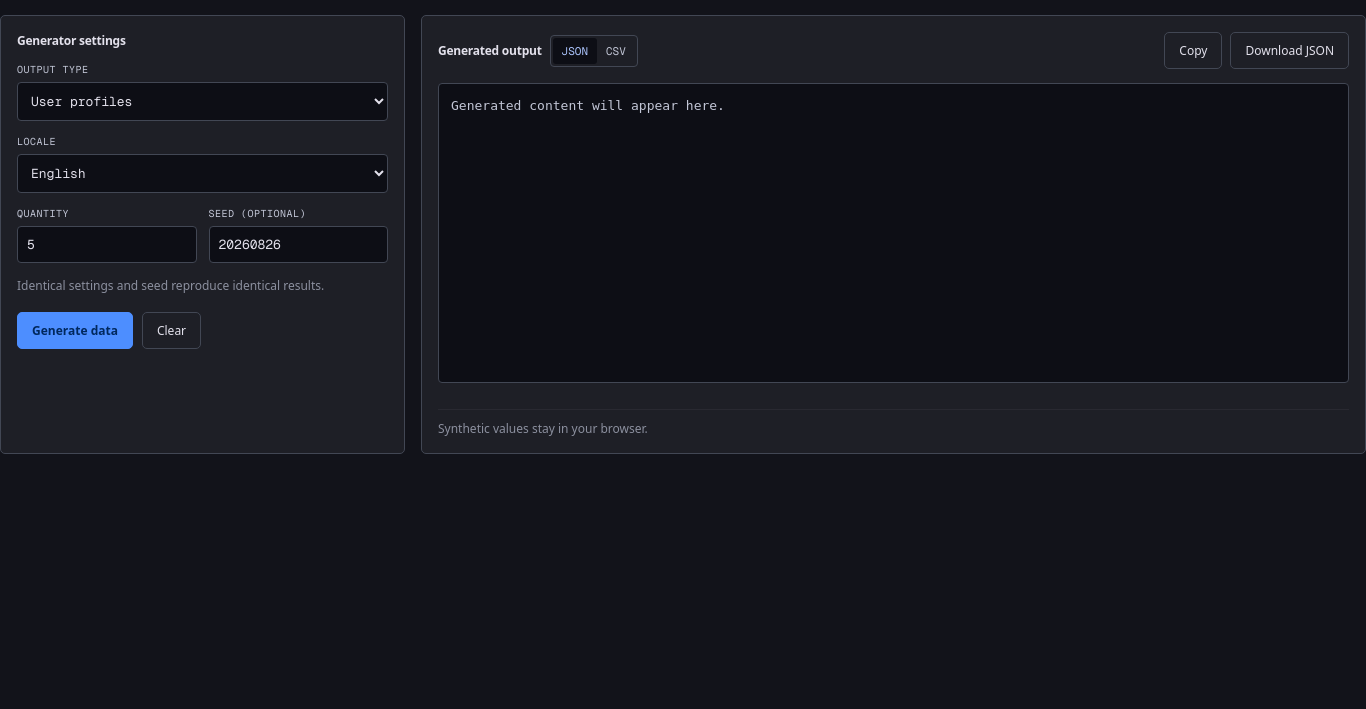
Mock Data Generator - Level 3 advanced/risk-driven › reports unavailable clipboard access without losing generated output (browser capability risk)
Click the button "Generate data". click: (75, 330)
box: [17, 312, 133, 349]
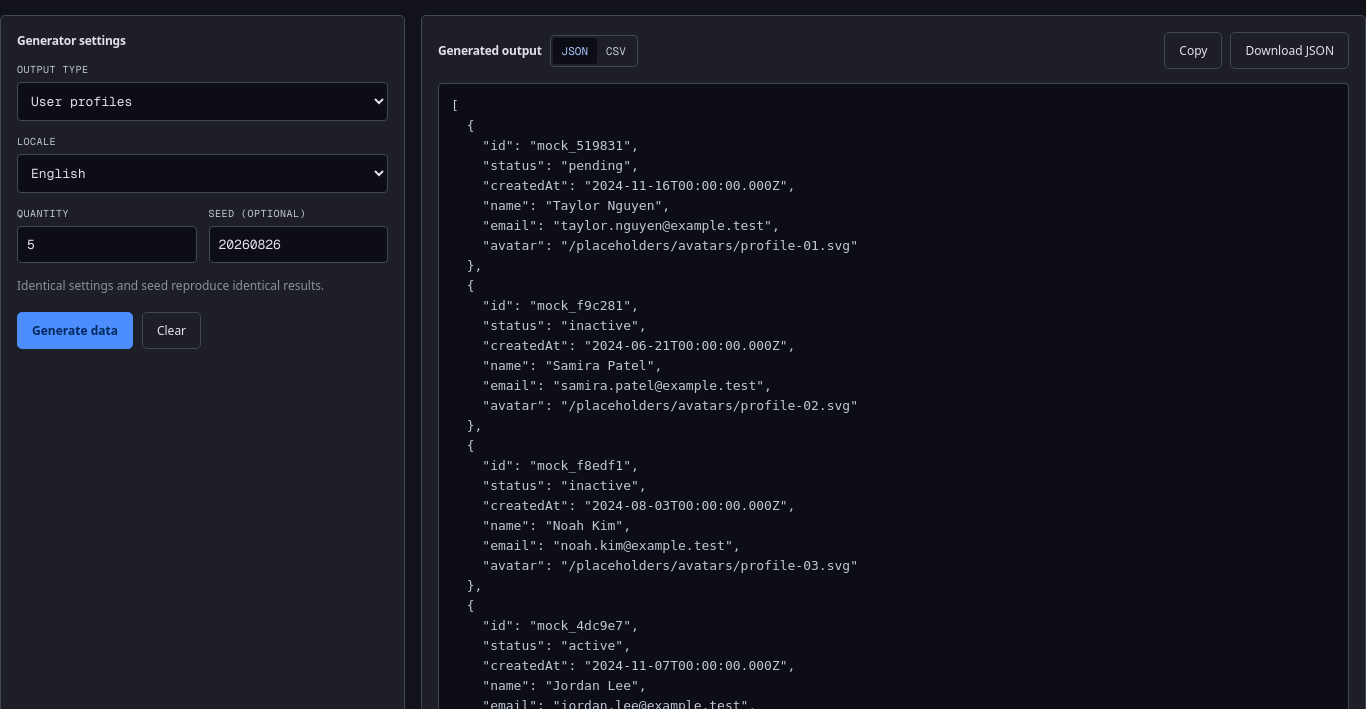
Click the button "Copy". click: (1193, 50)
box: [1164, 32, 1222, 69]
(page scrolled)
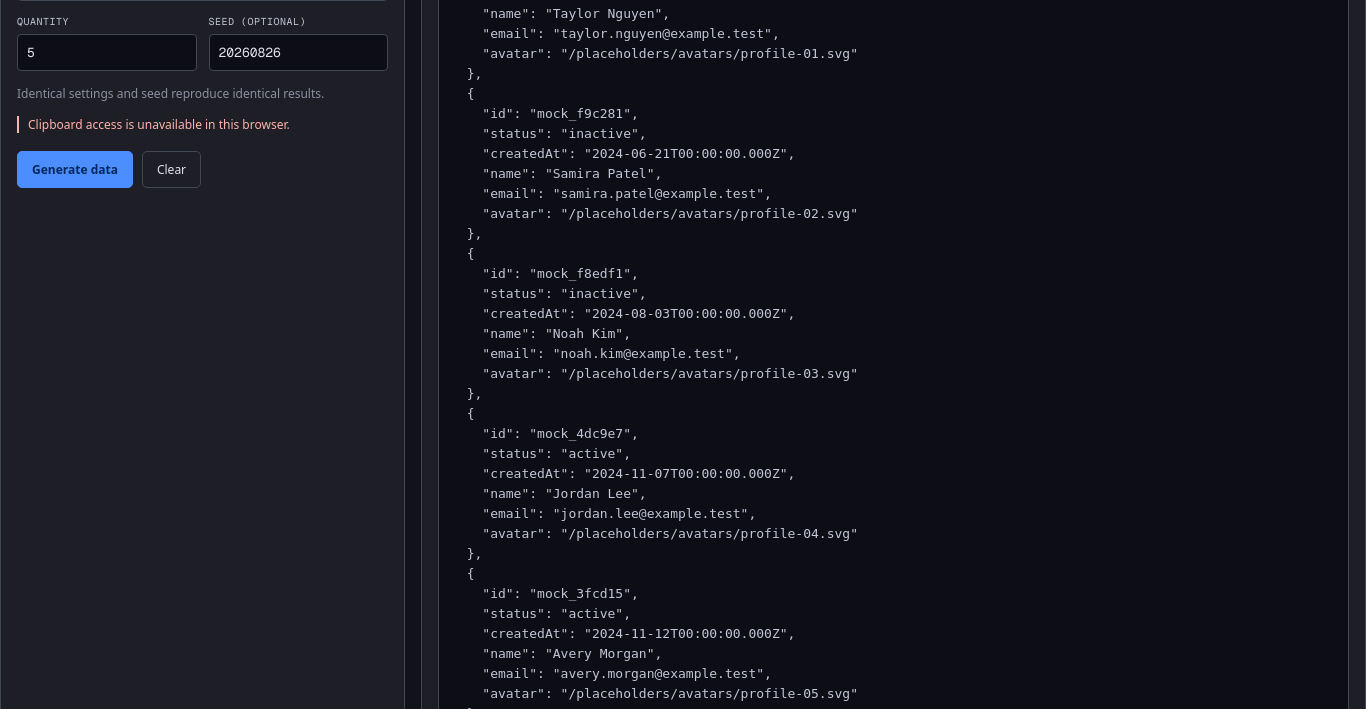
Expected: the message shows "Clipboard access is unavailable", [28, 116, 290, 133]
